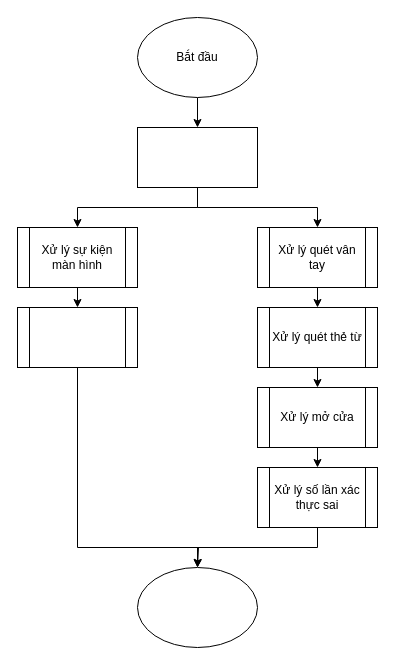
This 395x665 diagram has some shape labels left out. The shapes that lost their labels are listed below. From the top down, each one's centre as x and y in pixels, then its label:
At point (197, 157): "Khởi tạo hệ thống".
At point (77, 337): "Xử lý bật/tắt màn hình".
At point (197, 607): "Kết thúc".
